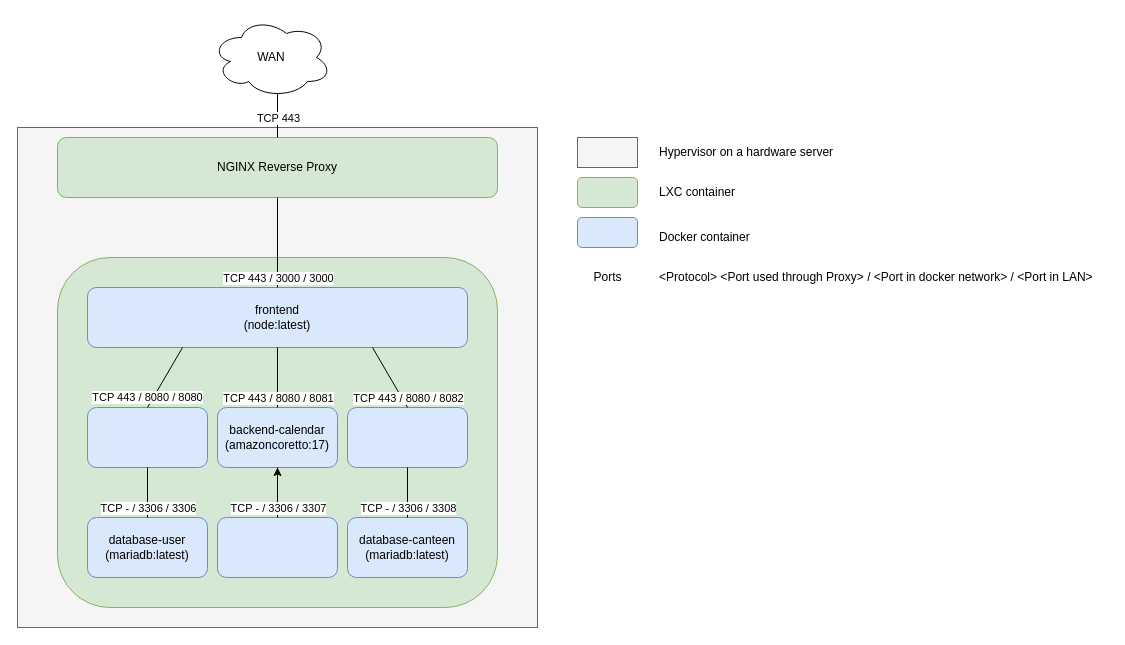
The diagram is 1125 pixels wide and 645 high, and some of its shapes have lost their labels. Here are the shapes that lost their labels. From the top down, the centre of each, then its label:
At point 147,437: "backend-user (amazoncoretto:17)".
At point 407,437: "backend-canteen (amazoncoretto:17)".
At point 277,547: "database-calendar (mariadb:latest)".
